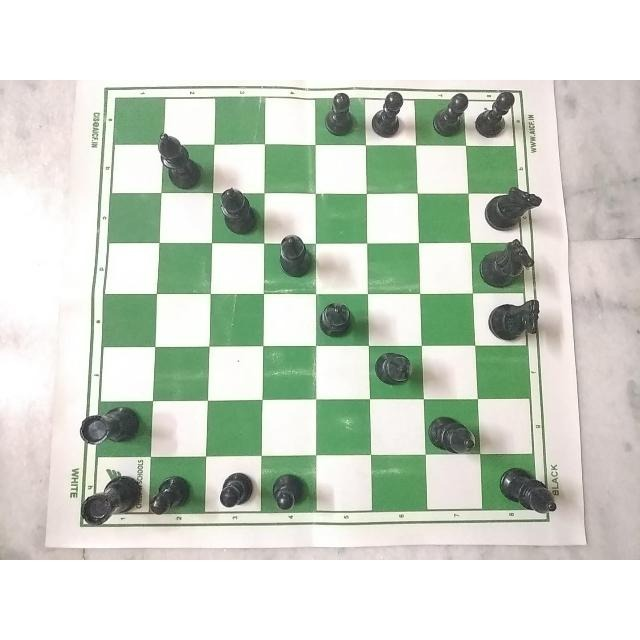black-bishop: (491, 455, 560, 521), (155, 130, 203, 193), (429, 406, 478, 463), (220, 184, 260, 244), (281, 232, 315, 282), (320, 298, 362, 338), (377, 348, 415, 389)
black-knight: (482, 181, 548, 230), (481, 239, 543, 286), (484, 297, 546, 341)
black-pawn: (265, 470, 315, 522), (475, 86, 516, 138), (431, 85, 470, 139), (147, 468, 187, 516), (215, 466, 259, 508), (372, 89, 408, 134), (324, 94, 358, 138)
black-rook: (79, 470, 139, 534), (74, 398, 144, 452)
